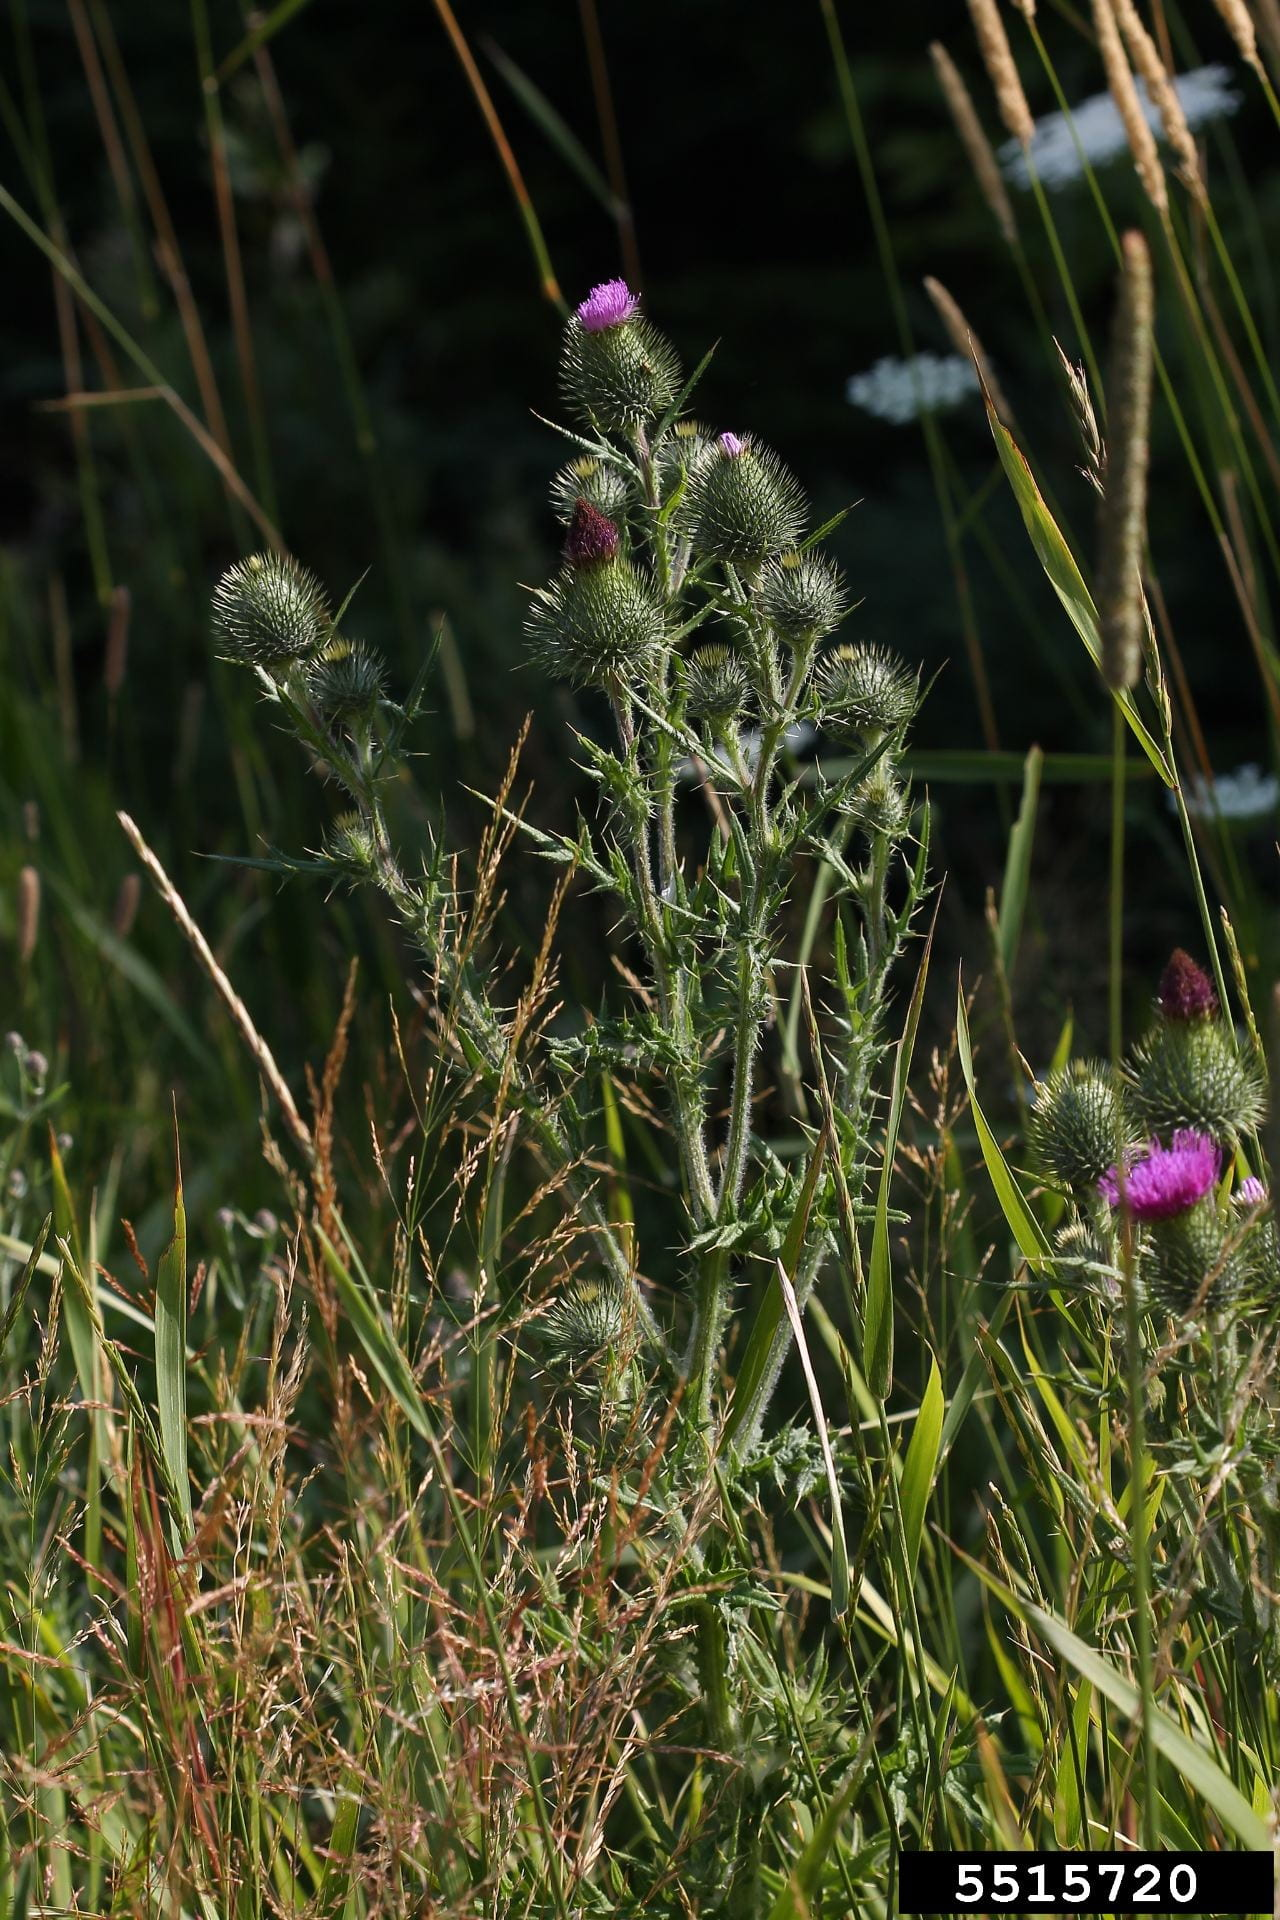bull thistle: (1096, 1131, 1256, 1319), (534, 494, 679, 681), (556, 273, 684, 439)
